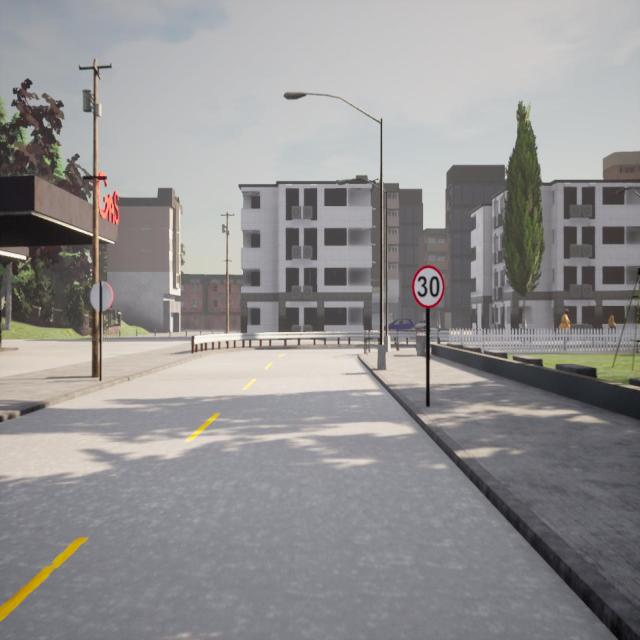Pedestrian: (559, 308, 571, 328), (607, 310, 616, 329)
Traffic_Signs: (410, 266, 444, 308), (90, 281, 115, 311)
Vehicle: (384, 318, 414, 330), (413, 321, 438, 332)
